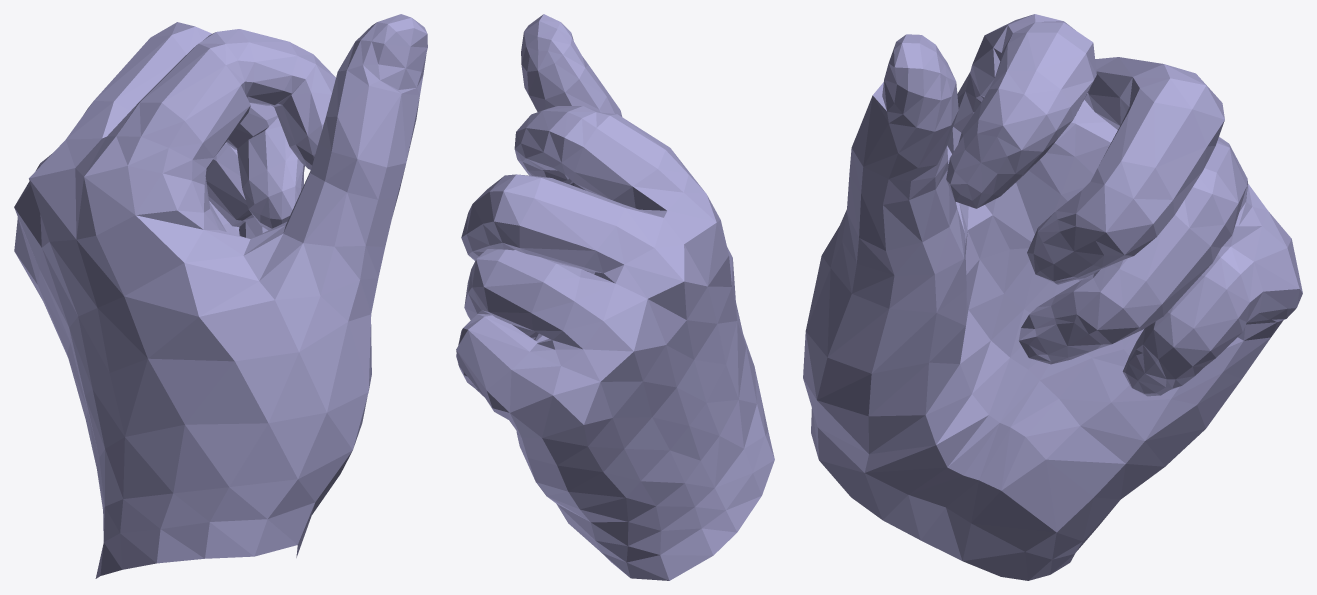
Rendered from frame_0002_source_000002_hand.glb.
3 views of the same model, side by side, from view 1: azimuth 30°, elevation 25°; view 2: azimuth 150°, elevation 25°; view 3: azimuth 270°, elevation 25° (orthographic). The views are drawn at different scales.
Visible parts, largest first — view 1: world; view 2: world; view 3: world.
Boxes of the visible parts, left/top/right/bottom form: world: left=14, top=14, right=427, bottom=578; world: left=456, top=14, right=774, bottom=580; world: left=803, top=14, right=1302, bottom=580.
Size of the model in its own units: 0.0674 by 0.1252 by 0.0923.
